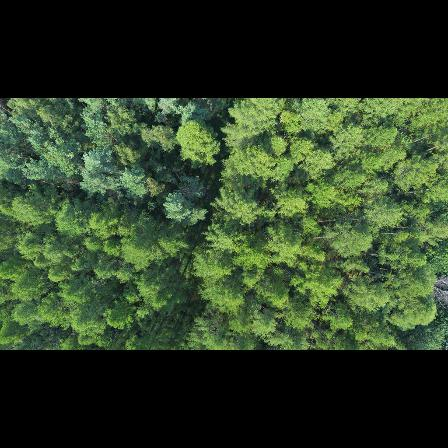Dead: (432, 276, 448, 305)
